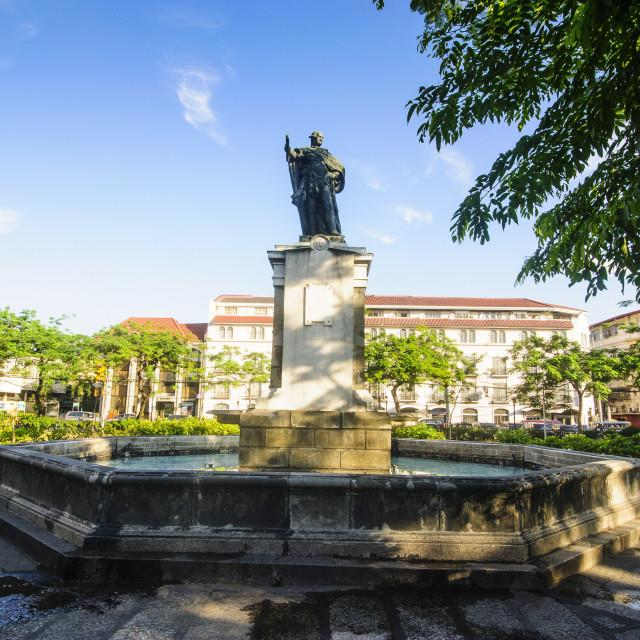King Charles IV Monument: (247, 115, 398, 473)
